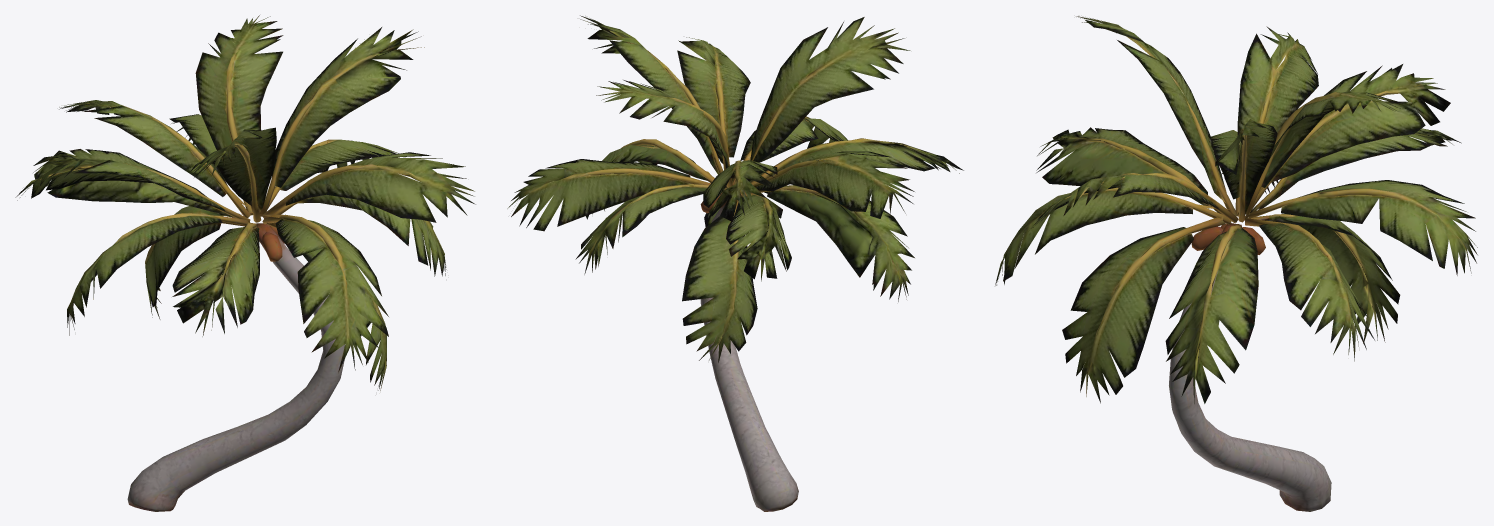
File: palm.glb
The picture shows the model from 3 angles, left to right: view 1: azimuth 30°, elevation 25°; view 2: azimuth 150°, elevation 25°; view 3: azimuth 270°, elevation 25°; orthographic projection. The views are drawn at different scales.
Visible parts, largest first — view 1: tripo_node_c9af702e-635f-449a-87bd-03dd690b4b62; view 2: tripo_node_c9af702e-635f-449a-87bd-03dd690b4b62; view 3: tripo_node_c9af702e-635f-449a-87bd-03dd690b4b62.
Boxes of the visible parts, bbox=[...] form: tripo_node_c9af702e-635f-449a-87bd-03dd690b4b62: bbox=[15, 15, 475, 511]; tripo_node_c9af702e-635f-449a-87bd-03dd690b4b62: bbox=[507, 15, 963, 511]; tripo_node_c9af702e-635f-449a-87bd-03dd690b4b62: bbox=[995, 16, 1477, 511].
Bounding box in the file's own units: 0.9669 × 0.998 × 0.8964.
1 material, 1 textured.
